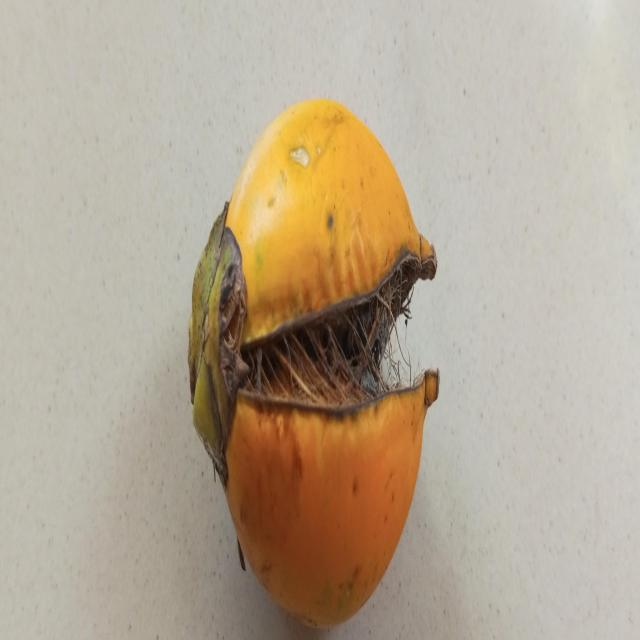damaged: (188, 99, 439, 627)
